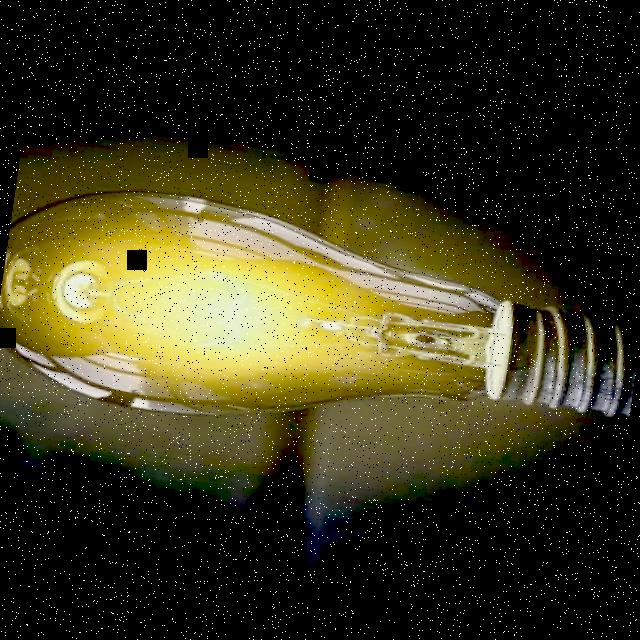light_bulb: (0, 157, 640, 479)
